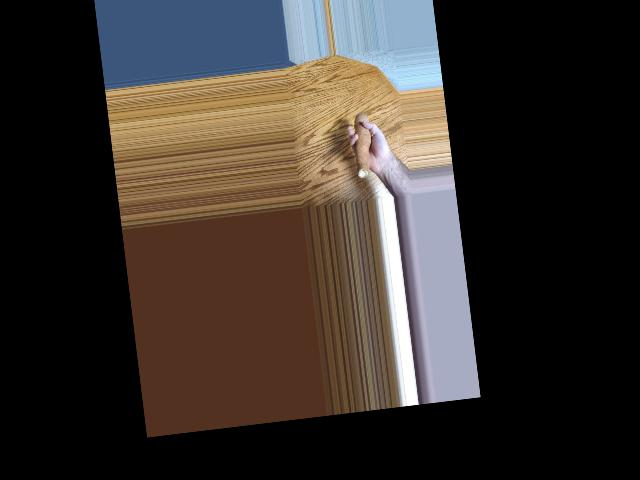sweet_potato: (347, 108, 372, 181)
